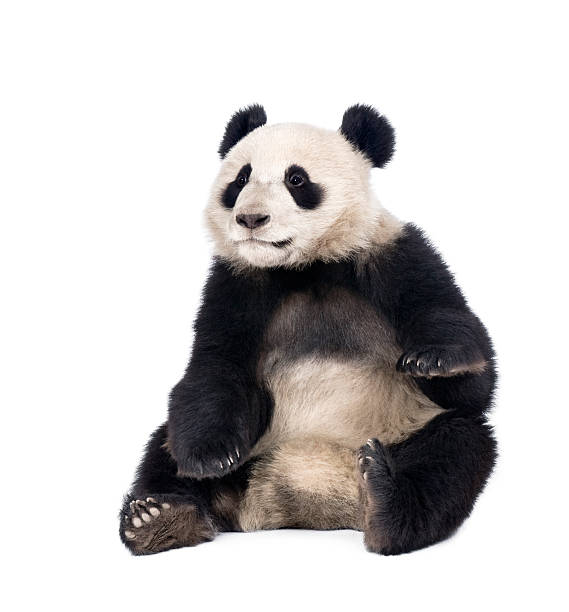panda: (181, 89, 416, 292)
